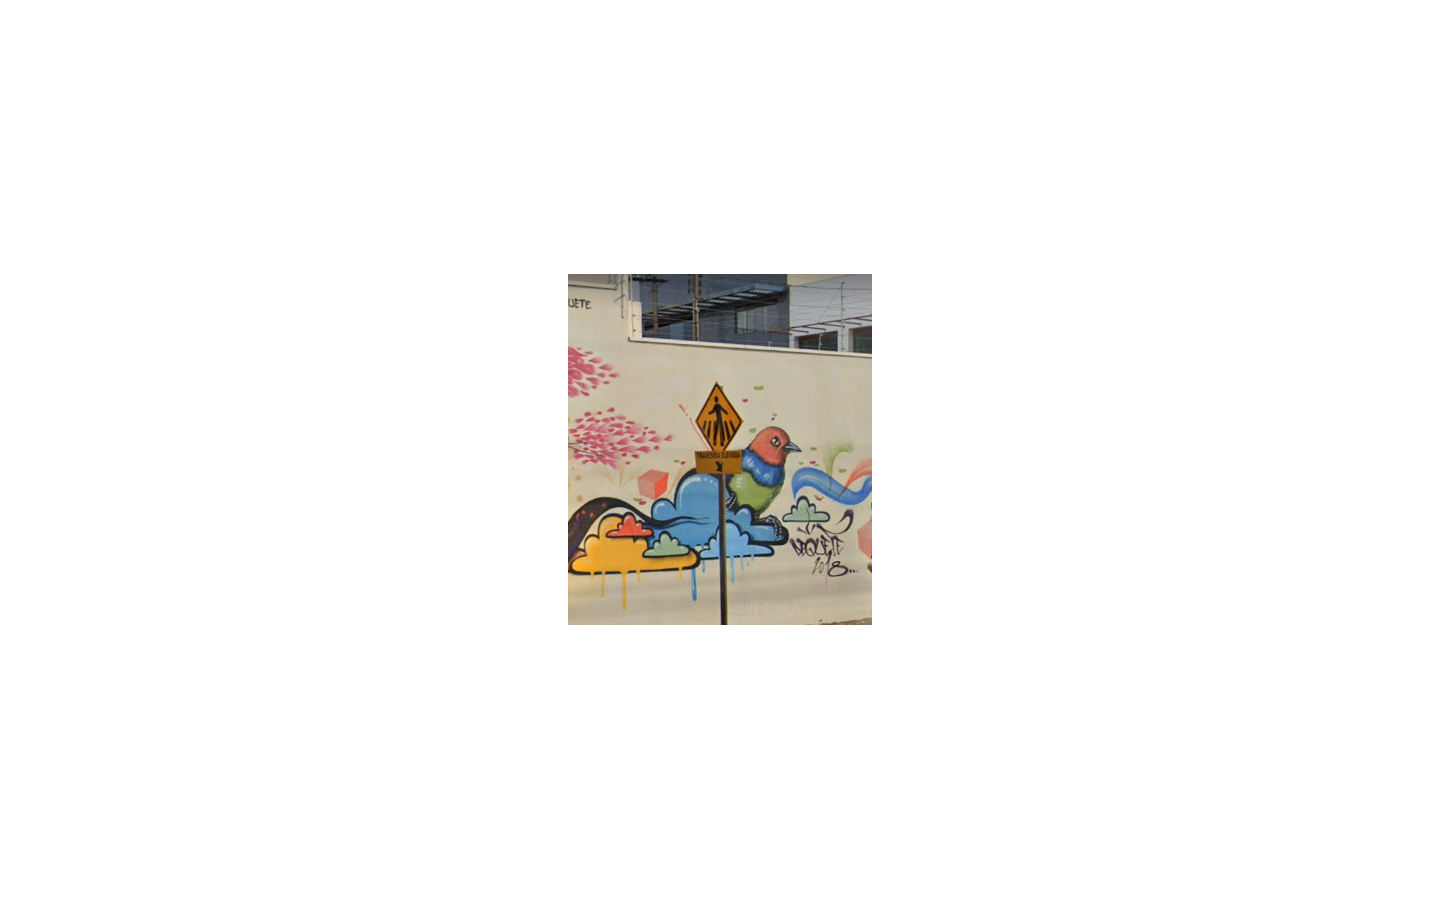telev: (694, 382, 744, 476)
